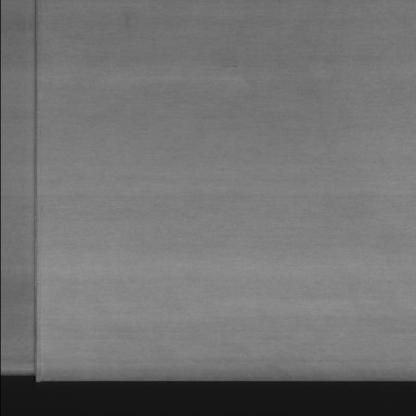welding_line: (18, 0, 50, 385)
